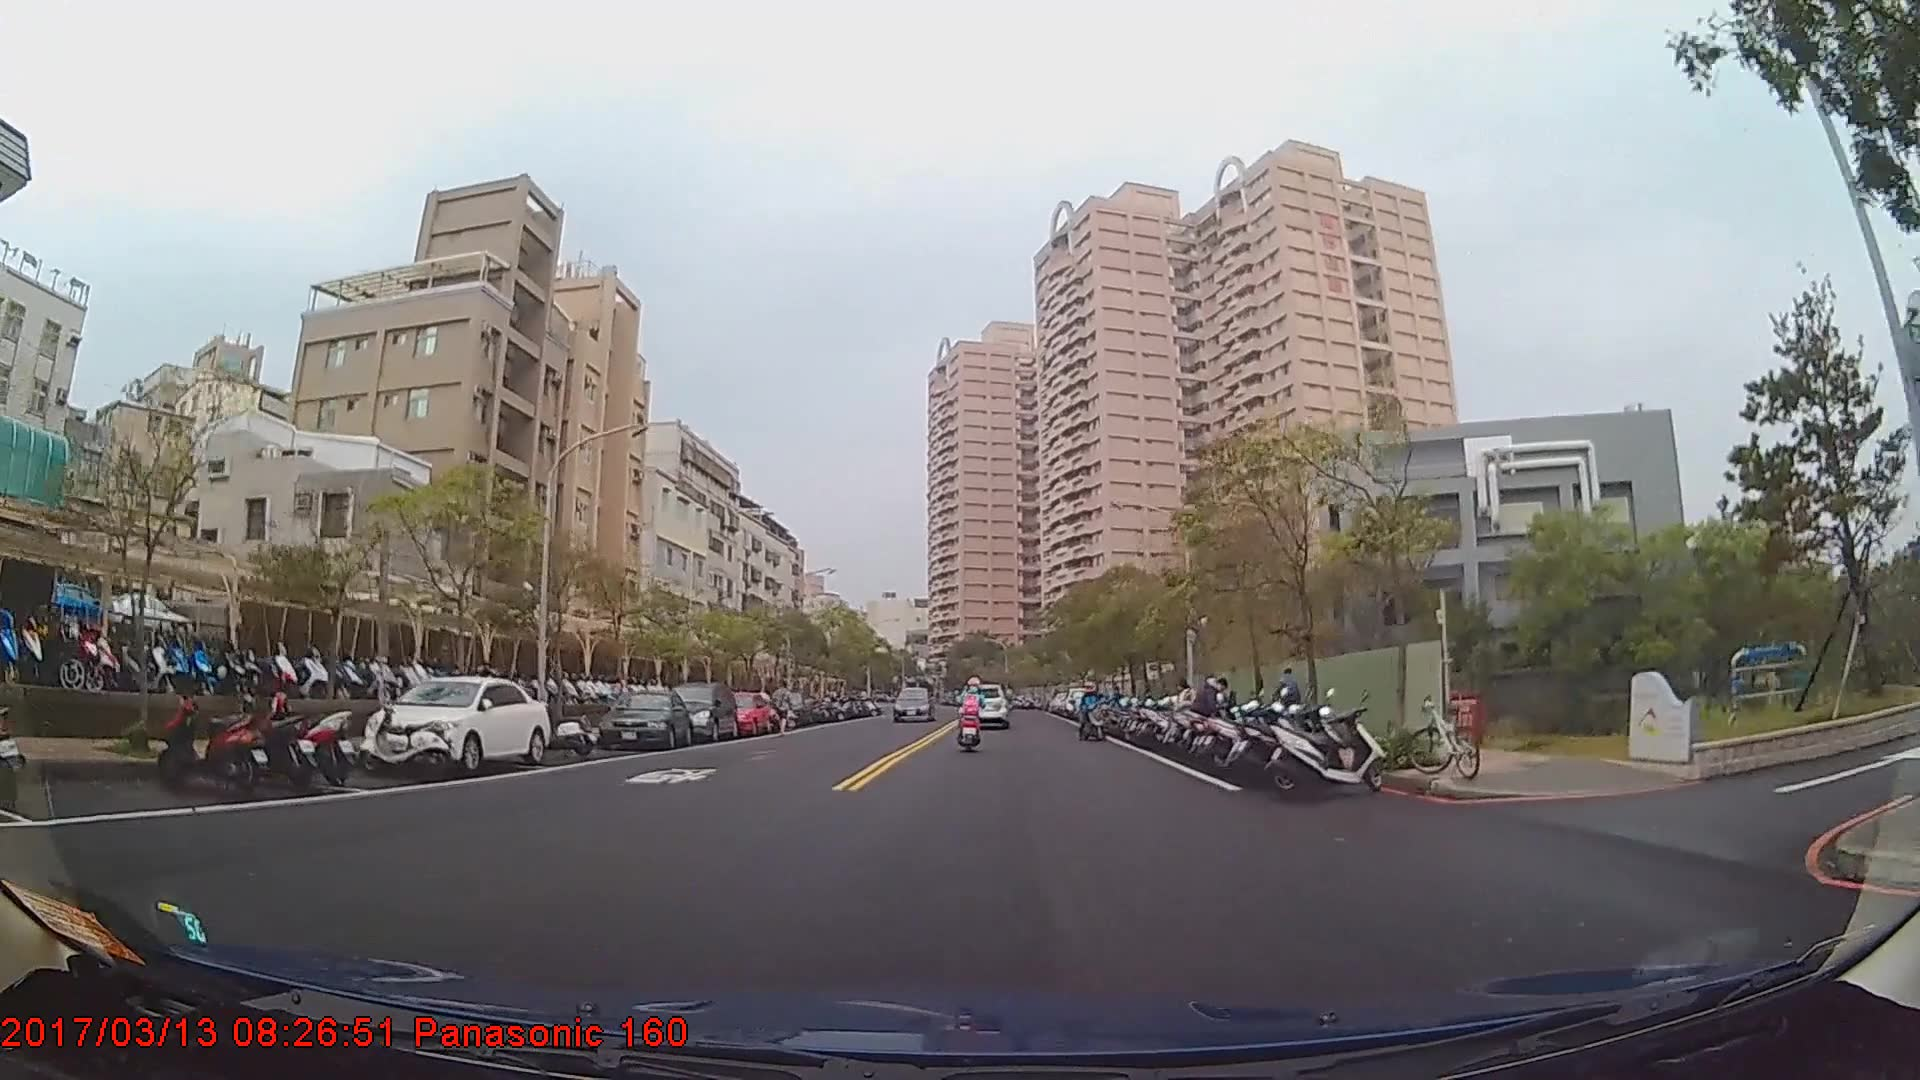pedestrian: (1190, 677, 1228, 759), (1274, 665, 1302, 733), (770, 679, 800, 740), (1171, 678, 1196, 748)
rider: (957, 679, 987, 752), (1077, 684, 1103, 745)
vehicle: (366, 674, 546, 774), (596, 688, 691, 750), (666, 679, 737, 738), (713, 690, 770, 737), (955, 682, 1008, 731), (893, 685, 932, 722)
